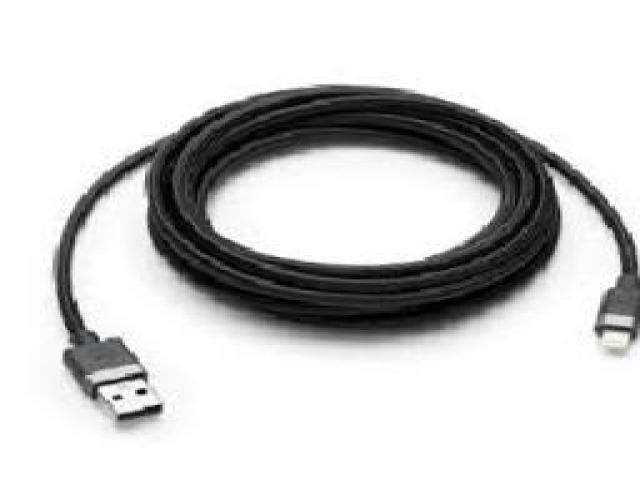wire: (56, 85, 640, 417)
